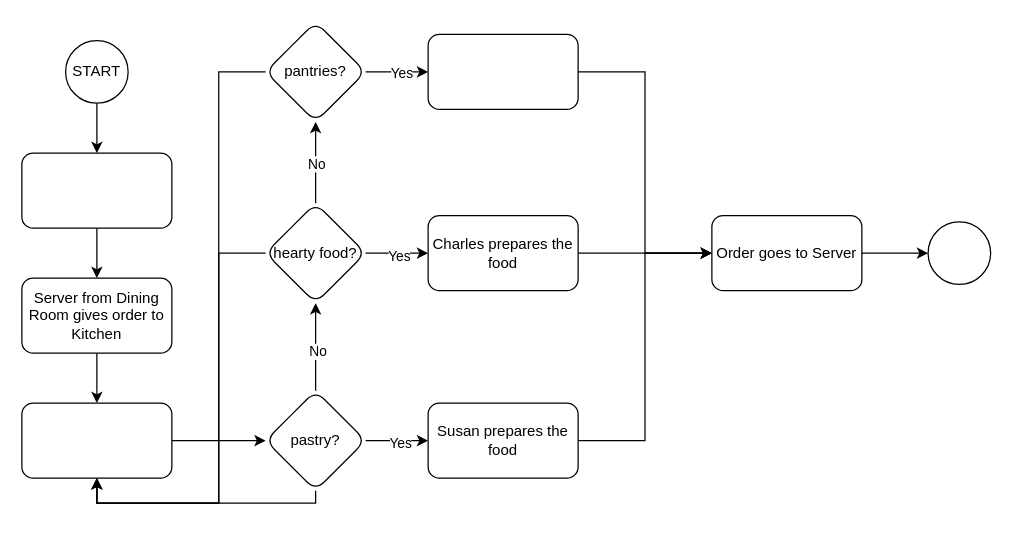
The diagram is 1013 pixels wide and 535 high, and some of its shapes have lost their labels. The centre of each missing label's shape, as x and y in pixels:
END: point (959, 252)
Larry and Laura prepare the food: point (502, 71)
Order from Dining Room comes in: point (96, 190)
What type of food?: point (96, 440)
